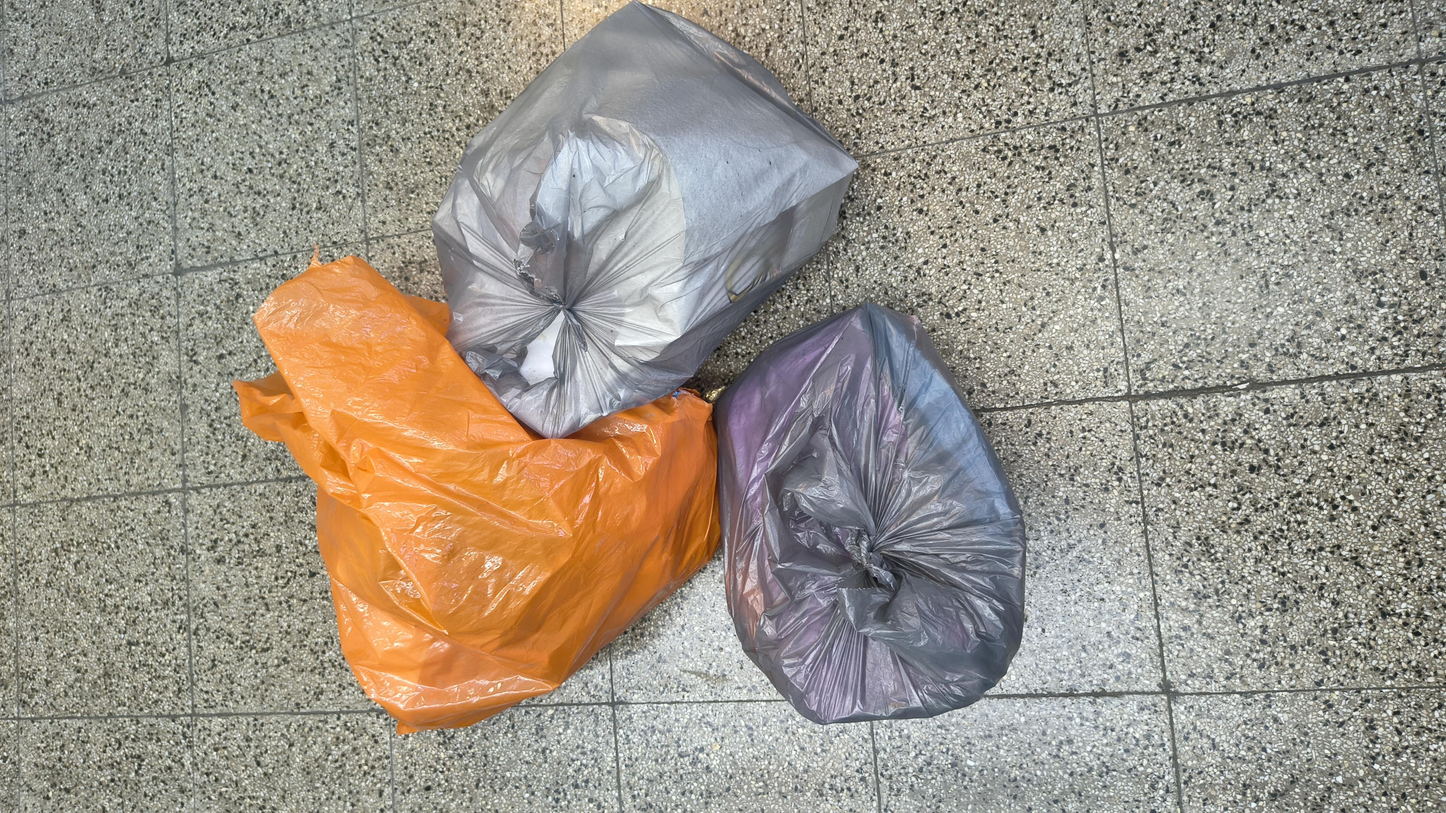Garbage: (126, 121, 967, 407), (697, 234, 1443, 492), (151, 405, 885, 586)
